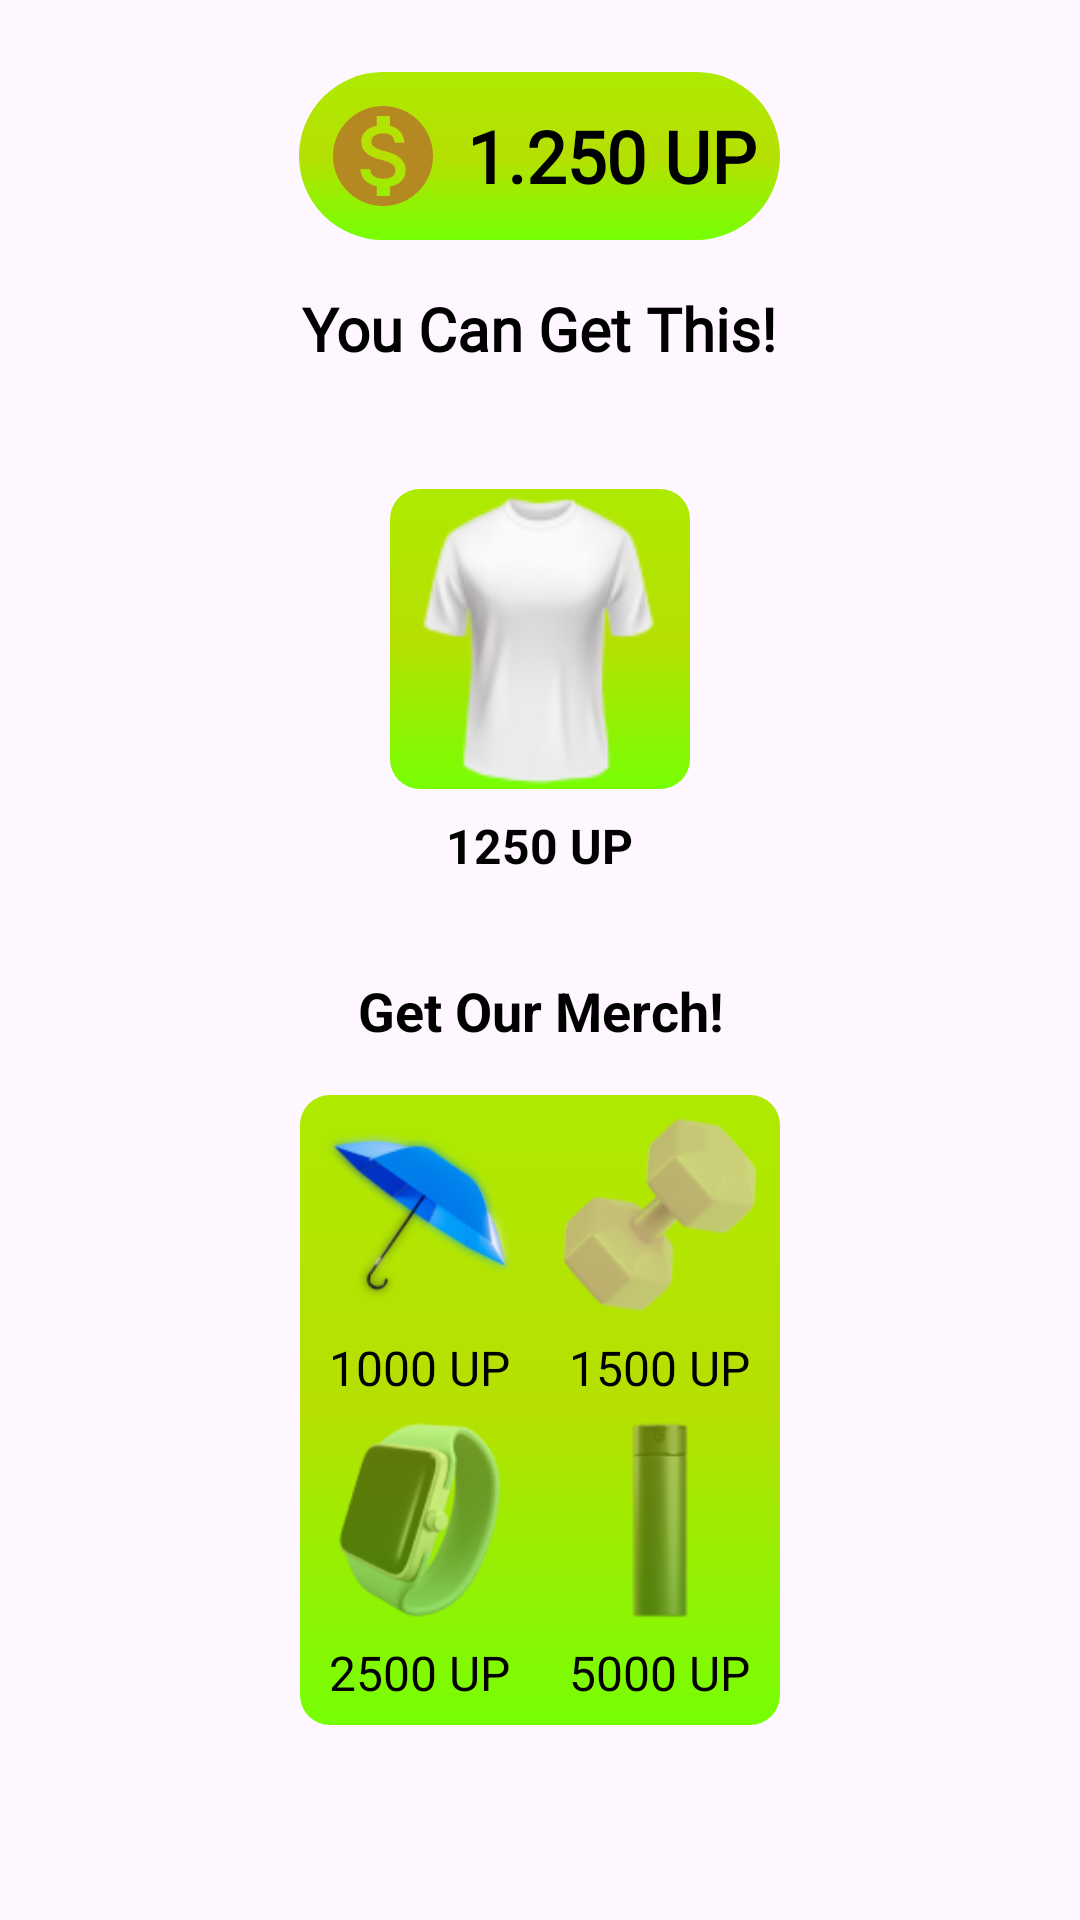

Where to tap for icons on this 1080px×1920px app screen, as point (x, y):
baju: point (540, 639)
barbeico: point (660, 1215)
jam: point (420, 1520)
payung: point (420, 1214)
upk koin: point (383, 156)
